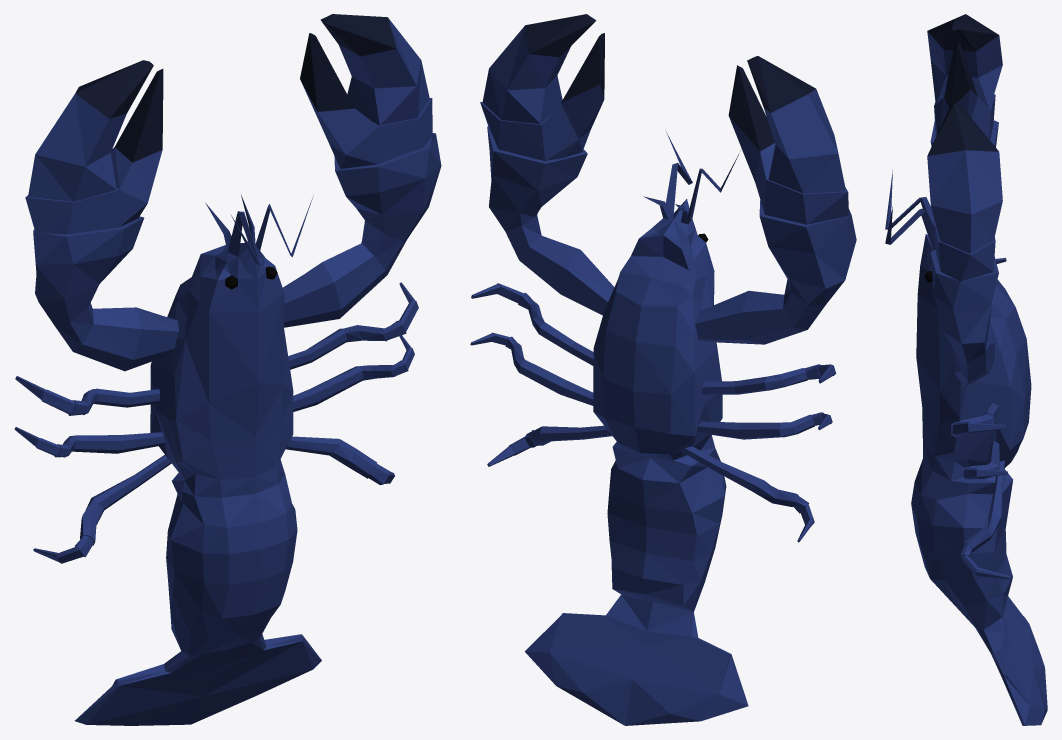
File: LobsterDrip.glb
3 renders of one model, left to right at view 1: azimuth 30°, elevation 25°; view 2: azimuth 150°, elevation 25°; view 3: azimuth 270°, elevation 25°, orthographic. The views are drawn at different scales.
Visible parts, largest first — view 1: LobsterDrip; view 2: LobsterDrip; view 3: LobsterDrip.
Part boxes in pixels (box(x1,y1,x2,y2)): LobsterDrip: box(14, 14, 441, 725); LobsterDrip: box(470, 14, 856, 725); LobsterDrip: box(885, 14, 1047, 725).
Size of the model in its own units: 0.2181 by 0.3715 by 0.0845.
1 material, 1 textured.
